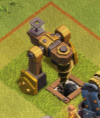dark_elixir_colector: (15, 12, 85, 102)
